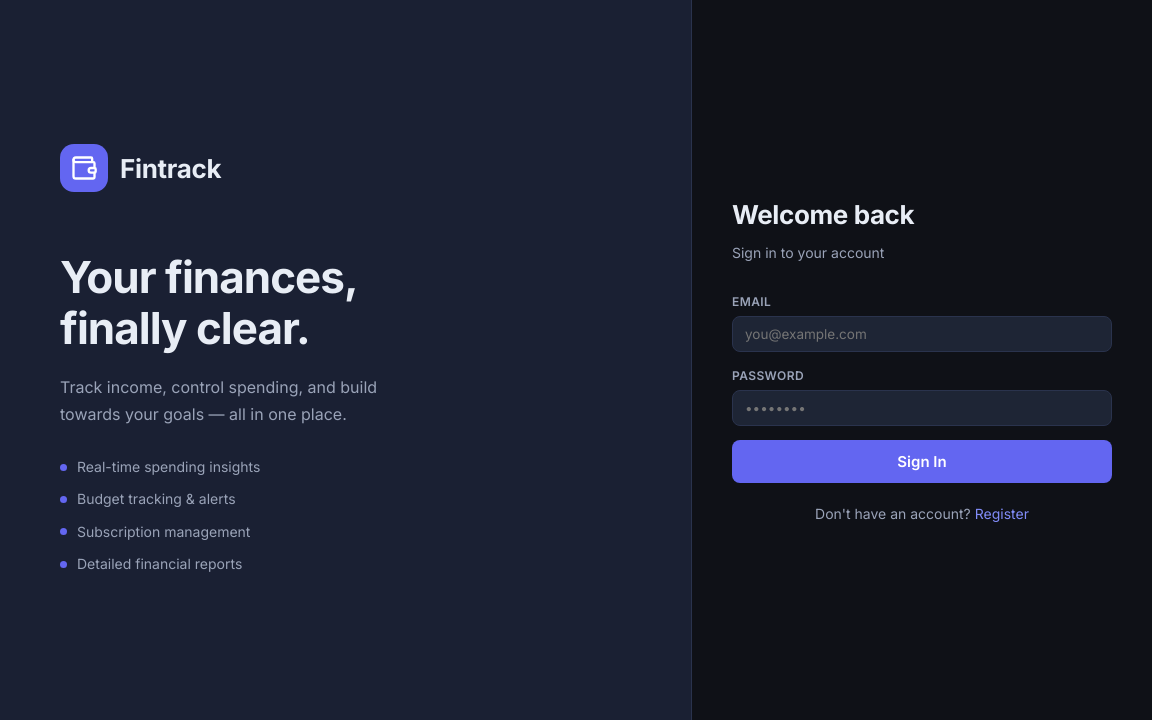
Test: registration › shows the server error and stays on the form
The image size is (1152, 720).
Step 1. Click the button "Register" → (1002, 514), box [975,506,1029,522]
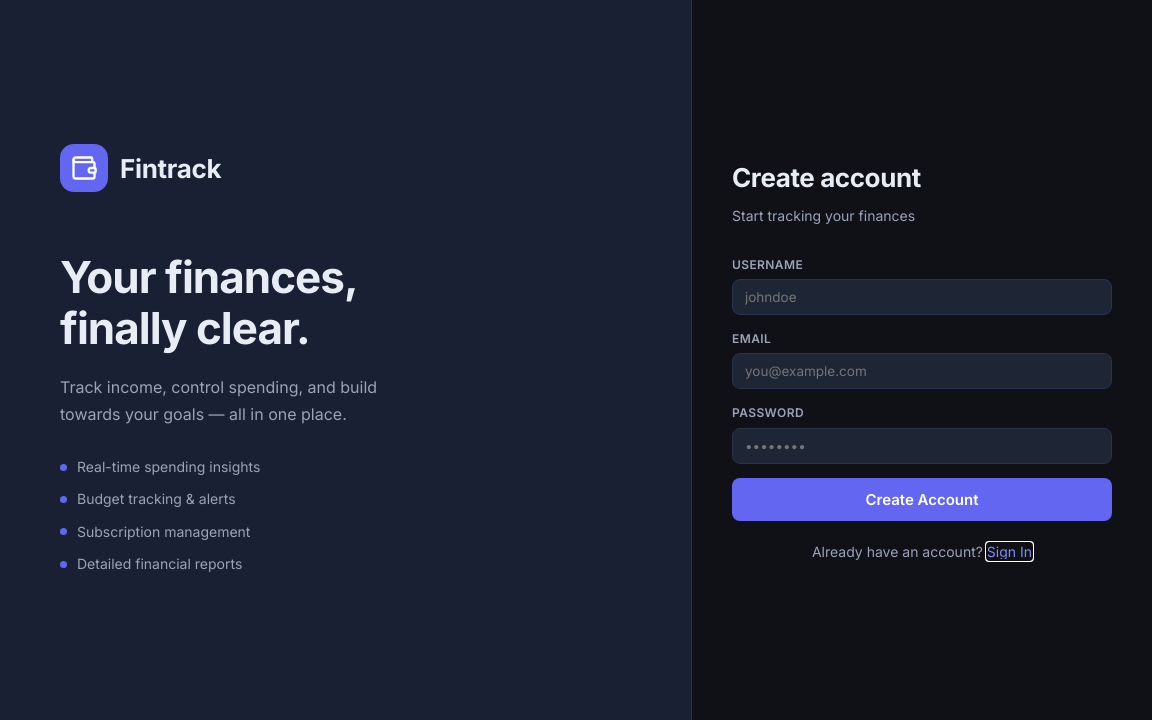
Step 2. Type "dup" into the field with placeholder "johndoe" → (922, 297), box [732,279,1112,315]
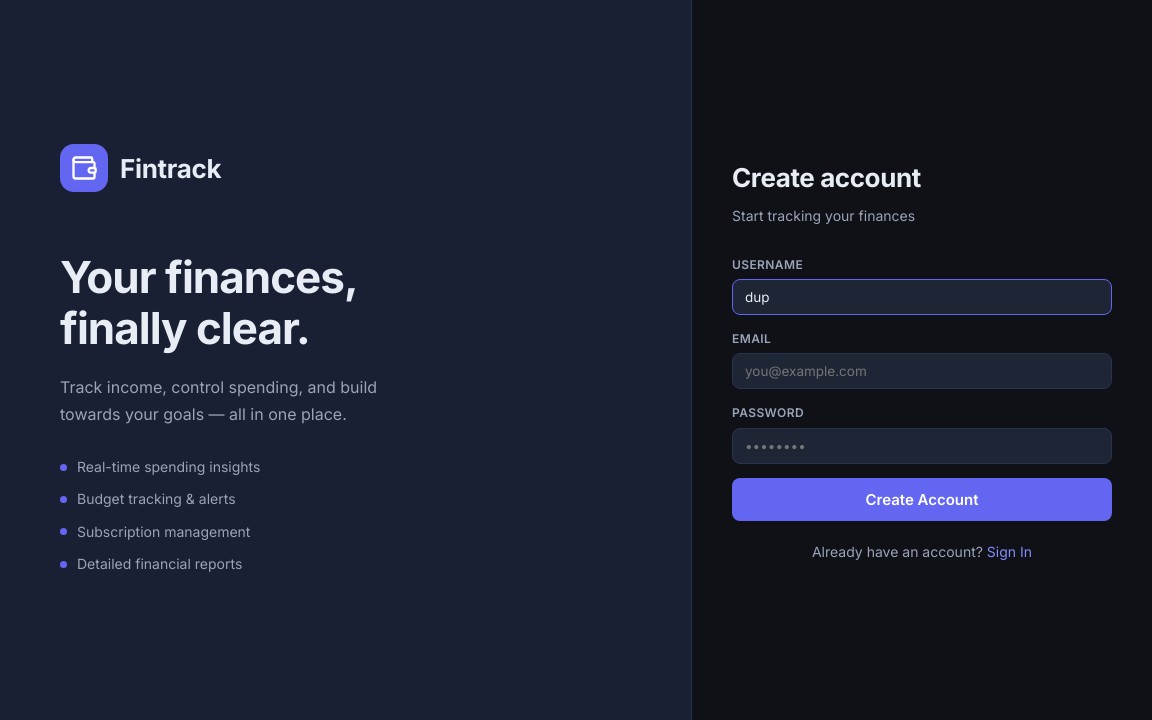
Step 3. Type "taken@example.com" into the field with placeholder "you@example.com" → (922, 371), box [732,353,1112,389]
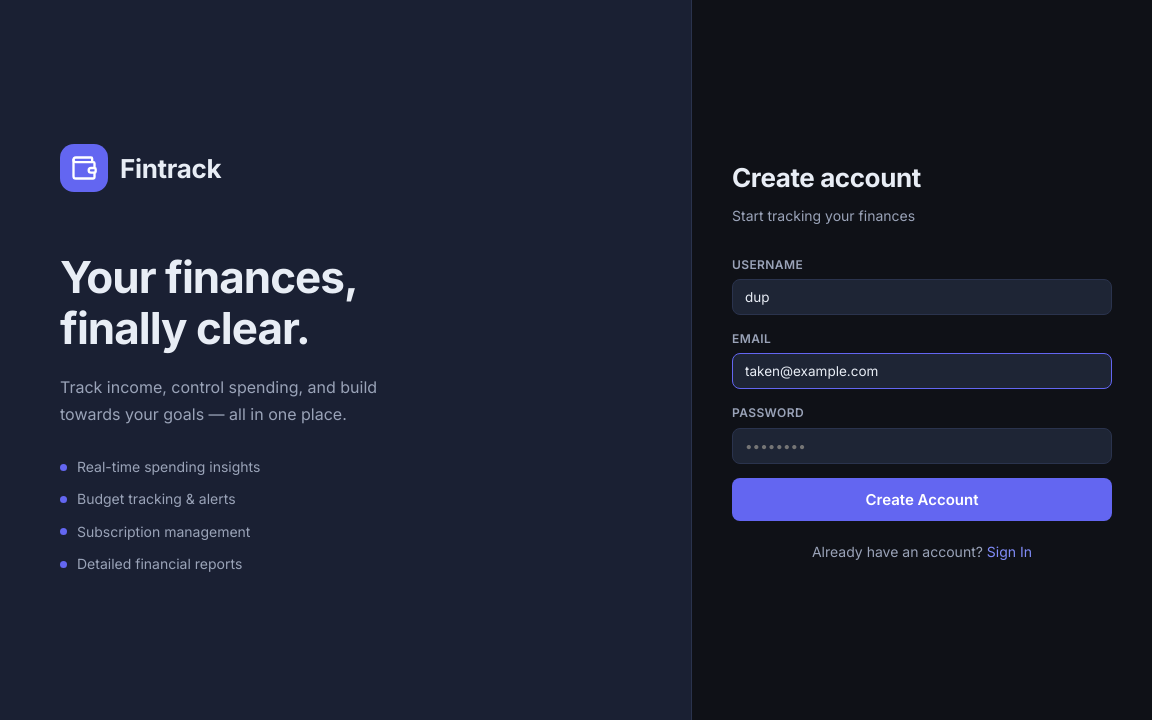
Step 4. Type "pw-123456" into the password field with placeholder "••••••••" → (922, 446), box [732,428,1112,464]
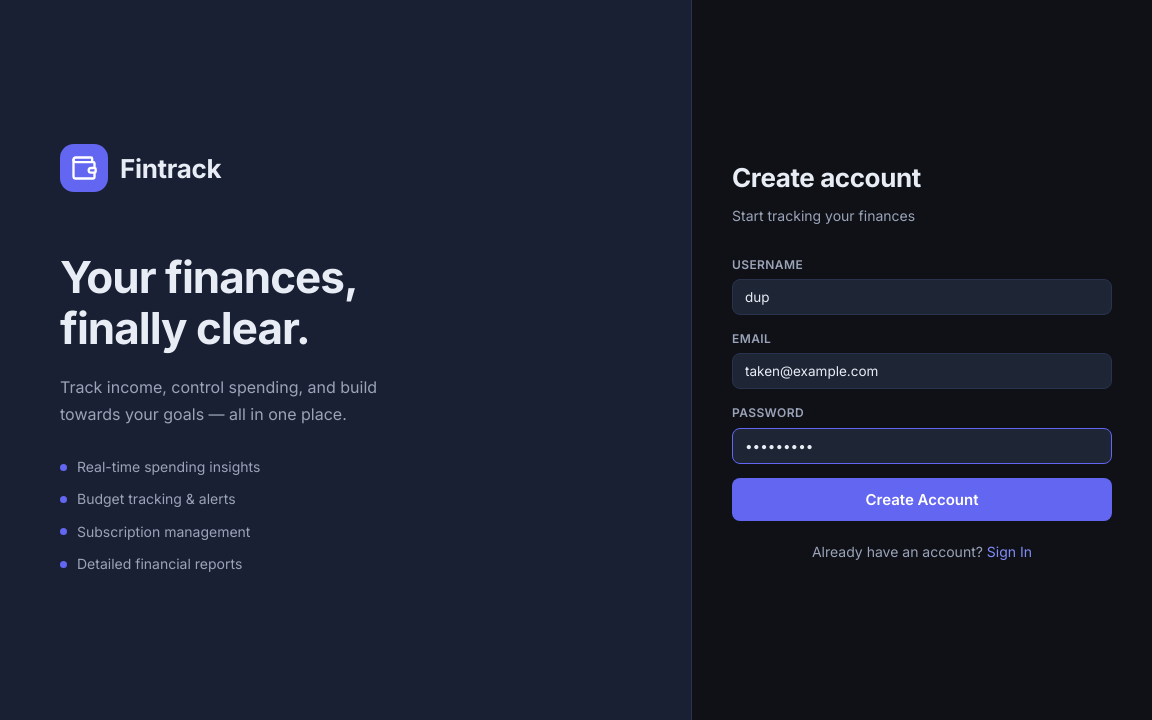
Step 5. Click the button "Create Account" → (922, 499), box [732,478,1112,521]
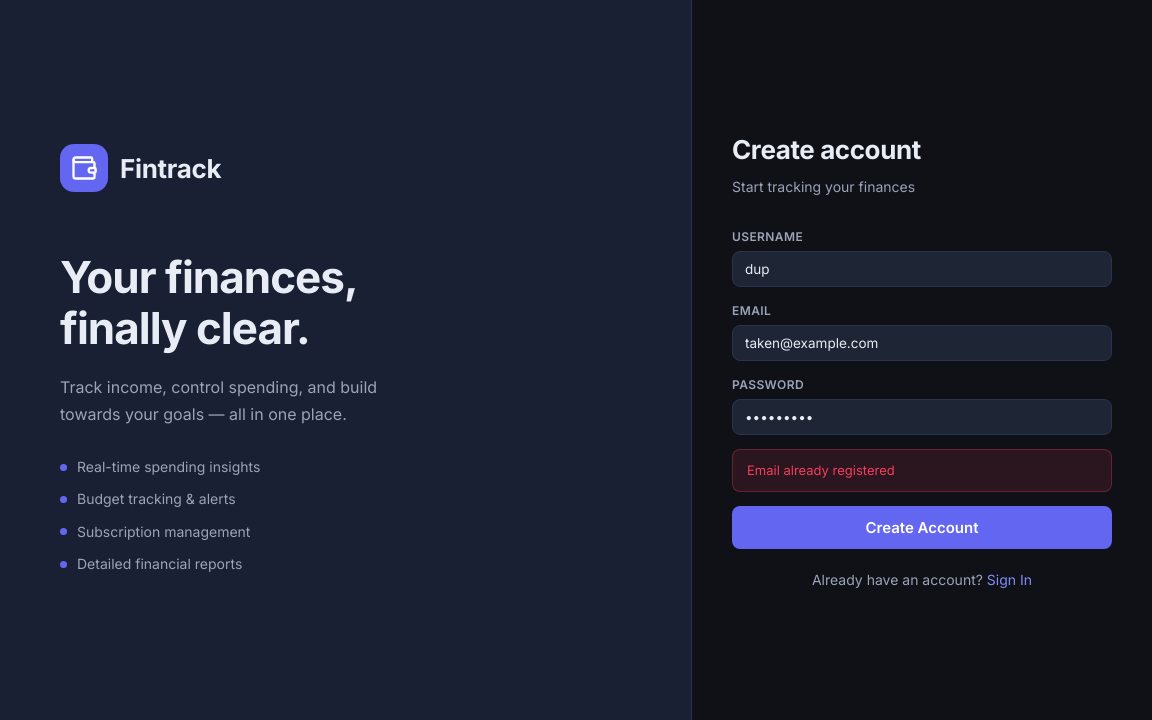
Expected: the button "Create Account" is enabled, [732,506,1112,549]
Expected: the text "Email already registered" is shown, [732,449,1112,492]
